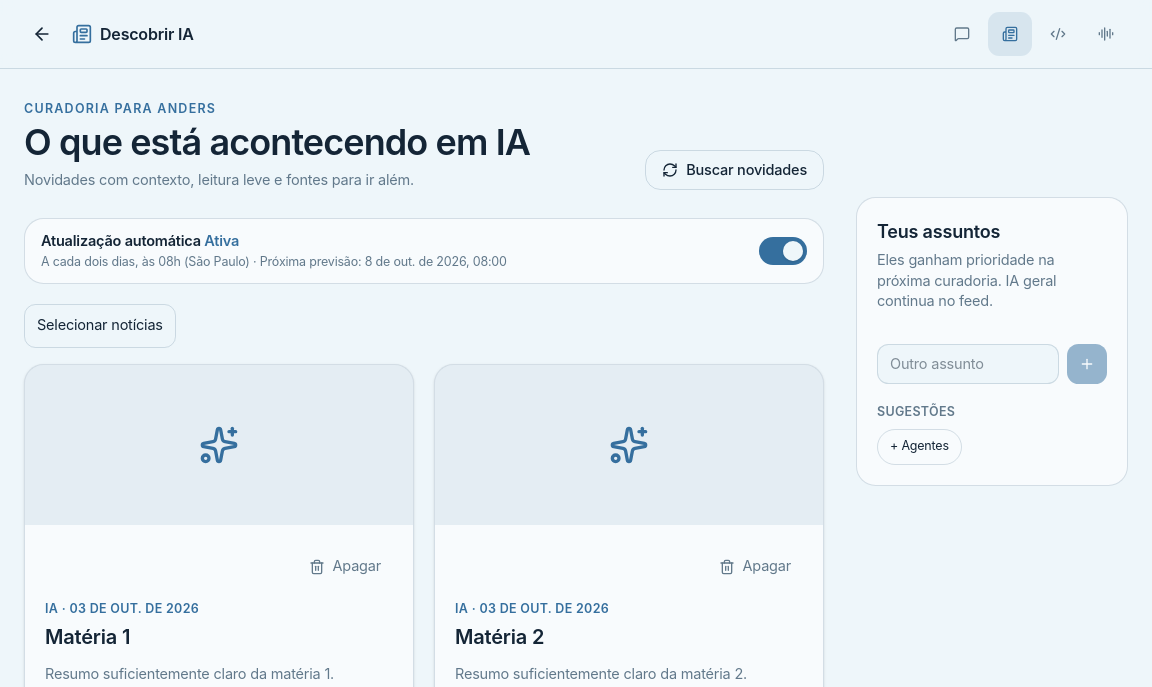
Scenario: Descobrir IA › não trava o interruptor se salvar assuntos durante o PUT da agenda
This screenshot has width=1152, height=687.
What coordinates should you click on to do the following:
click the switch named "Atualização automática"
I would click on:
 (783, 251)
Its box is left=759, top=237, right=807, bottom=265.
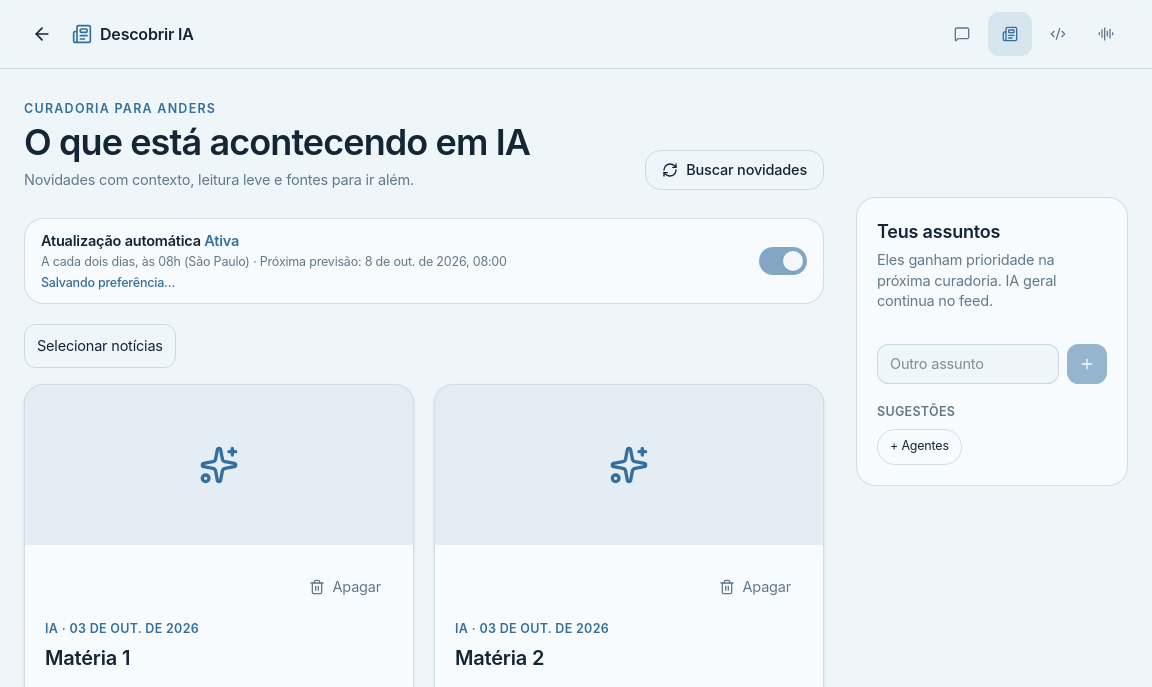
Expected: the switch named "Atualização automática" is disabled, left=759, top=247, right=807, bottom=275
What coordinates should you click on to do the following:
click the button "+ Agentes"
I would click on:
 (919, 447)
Its box is left=877, top=429, right=962, bottom=465.
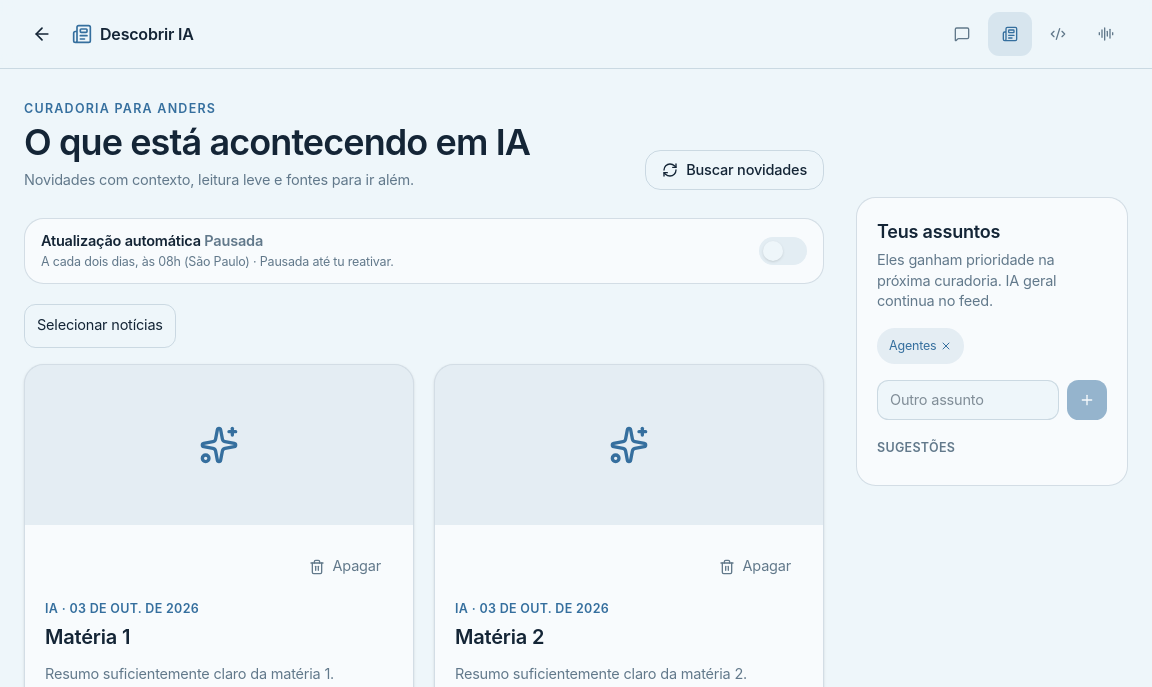
Expected: the switch named "Atualização automática" is enabled, left=759, top=237, right=807, bottom=265
